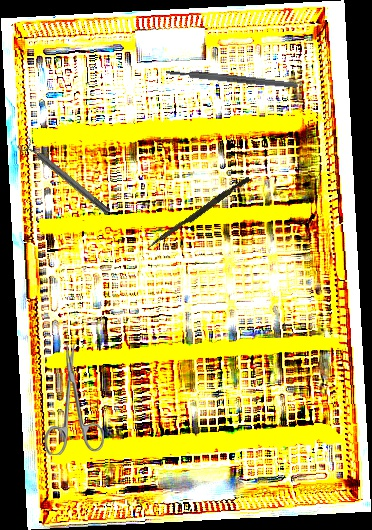Fixation Ring: (16, 134, 114, 220)
Iris Scissors: (43, 343, 104, 456)
Pusher: (147, 173, 251, 253)
Scalpel Handle: (165, 68, 299, 90)
